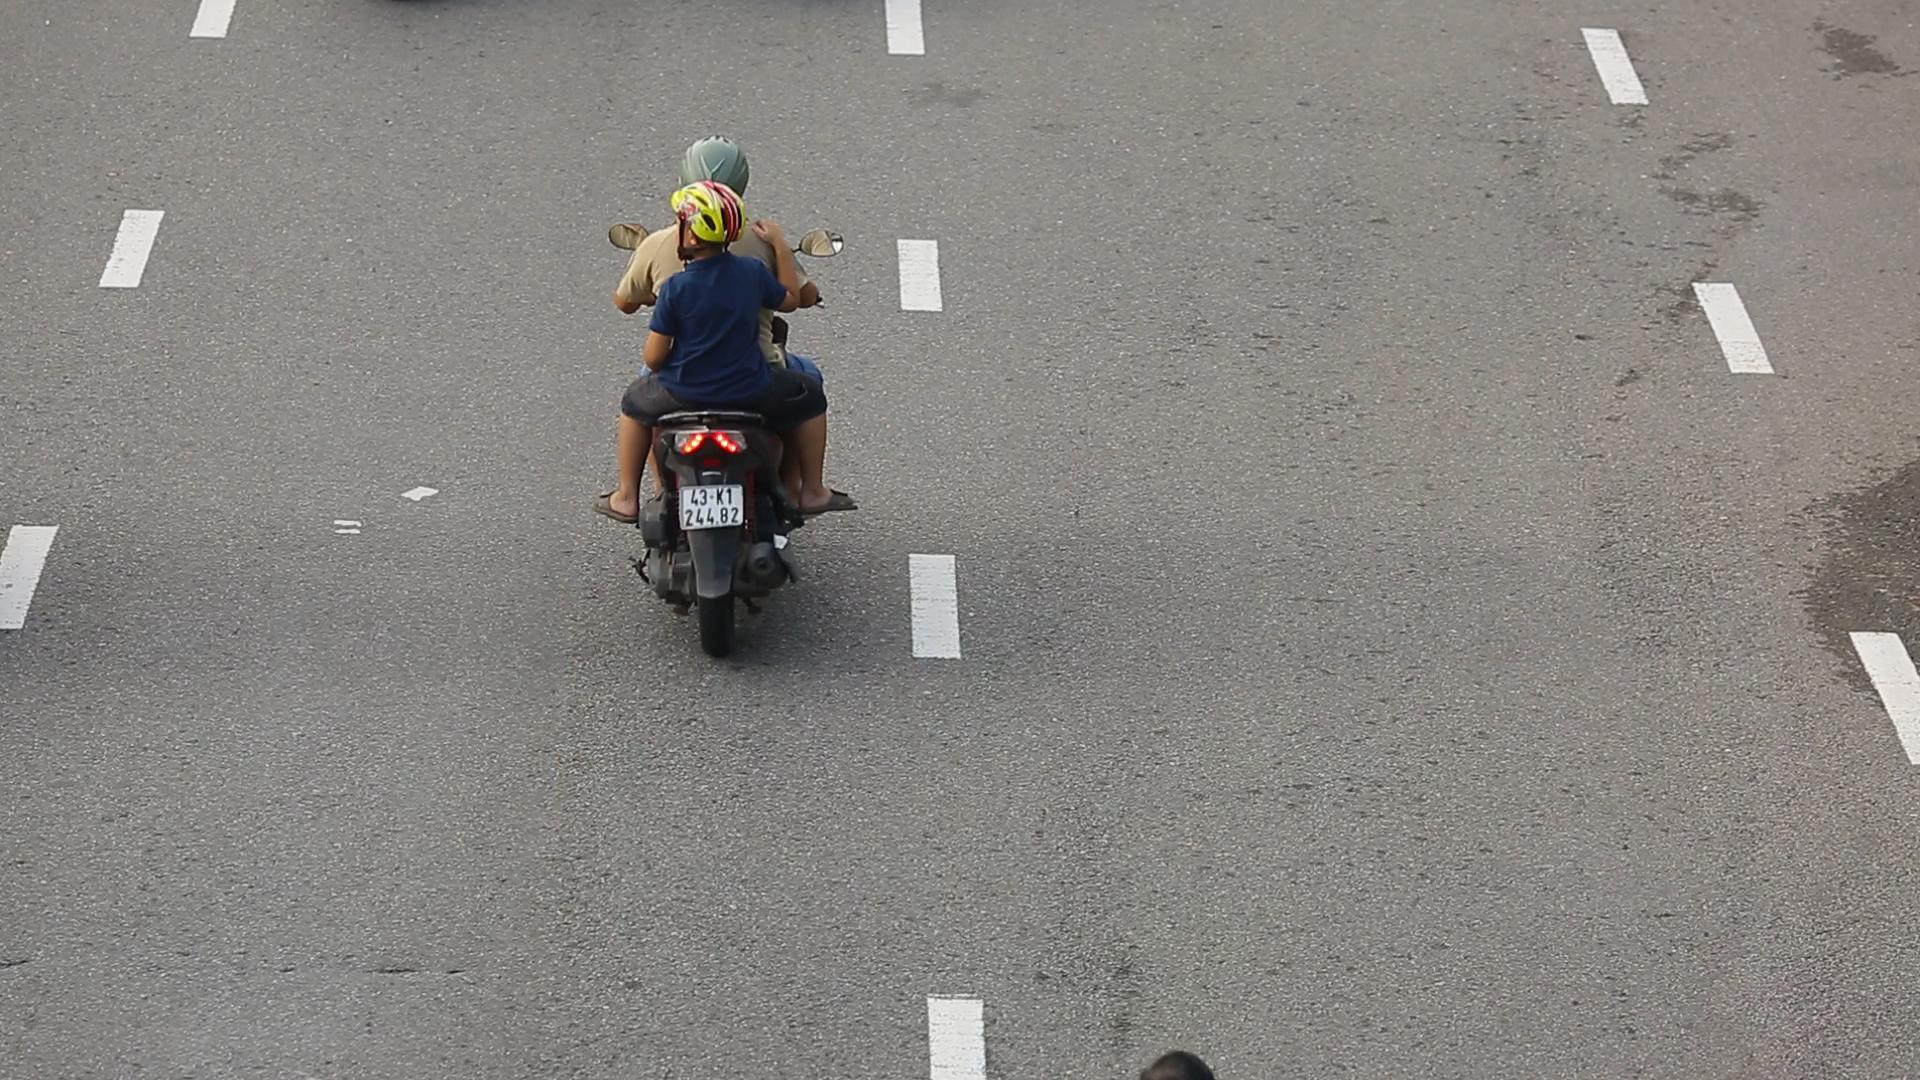motobike: (585, 111, 873, 692)
